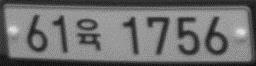1: (49, 13, 74, 55), (119, 14, 142, 55)
5: (174, 15, 201, 56)
6: (203, 15, 228, 56), (24, 13, 48, 52)
7: (146, 15, 170, 56)
육: (74, 17, 103, 52)
